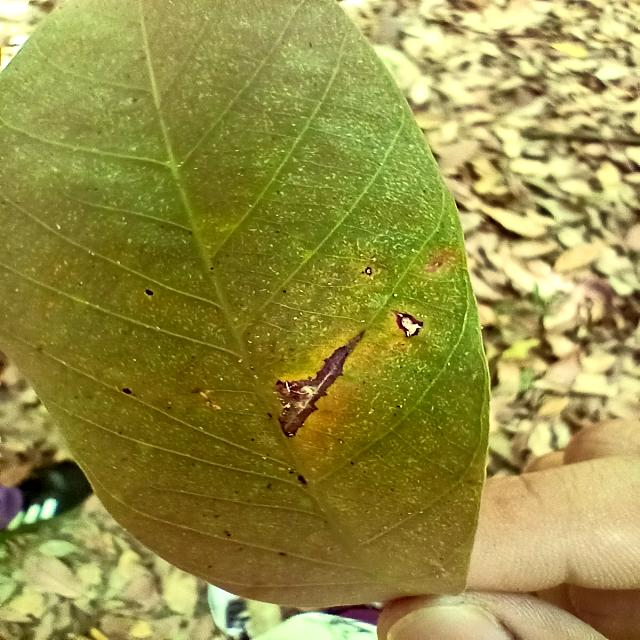Colletotrichum: (365, 267, 373, 276)
Corynespora: (276, 331, 366, 437)
